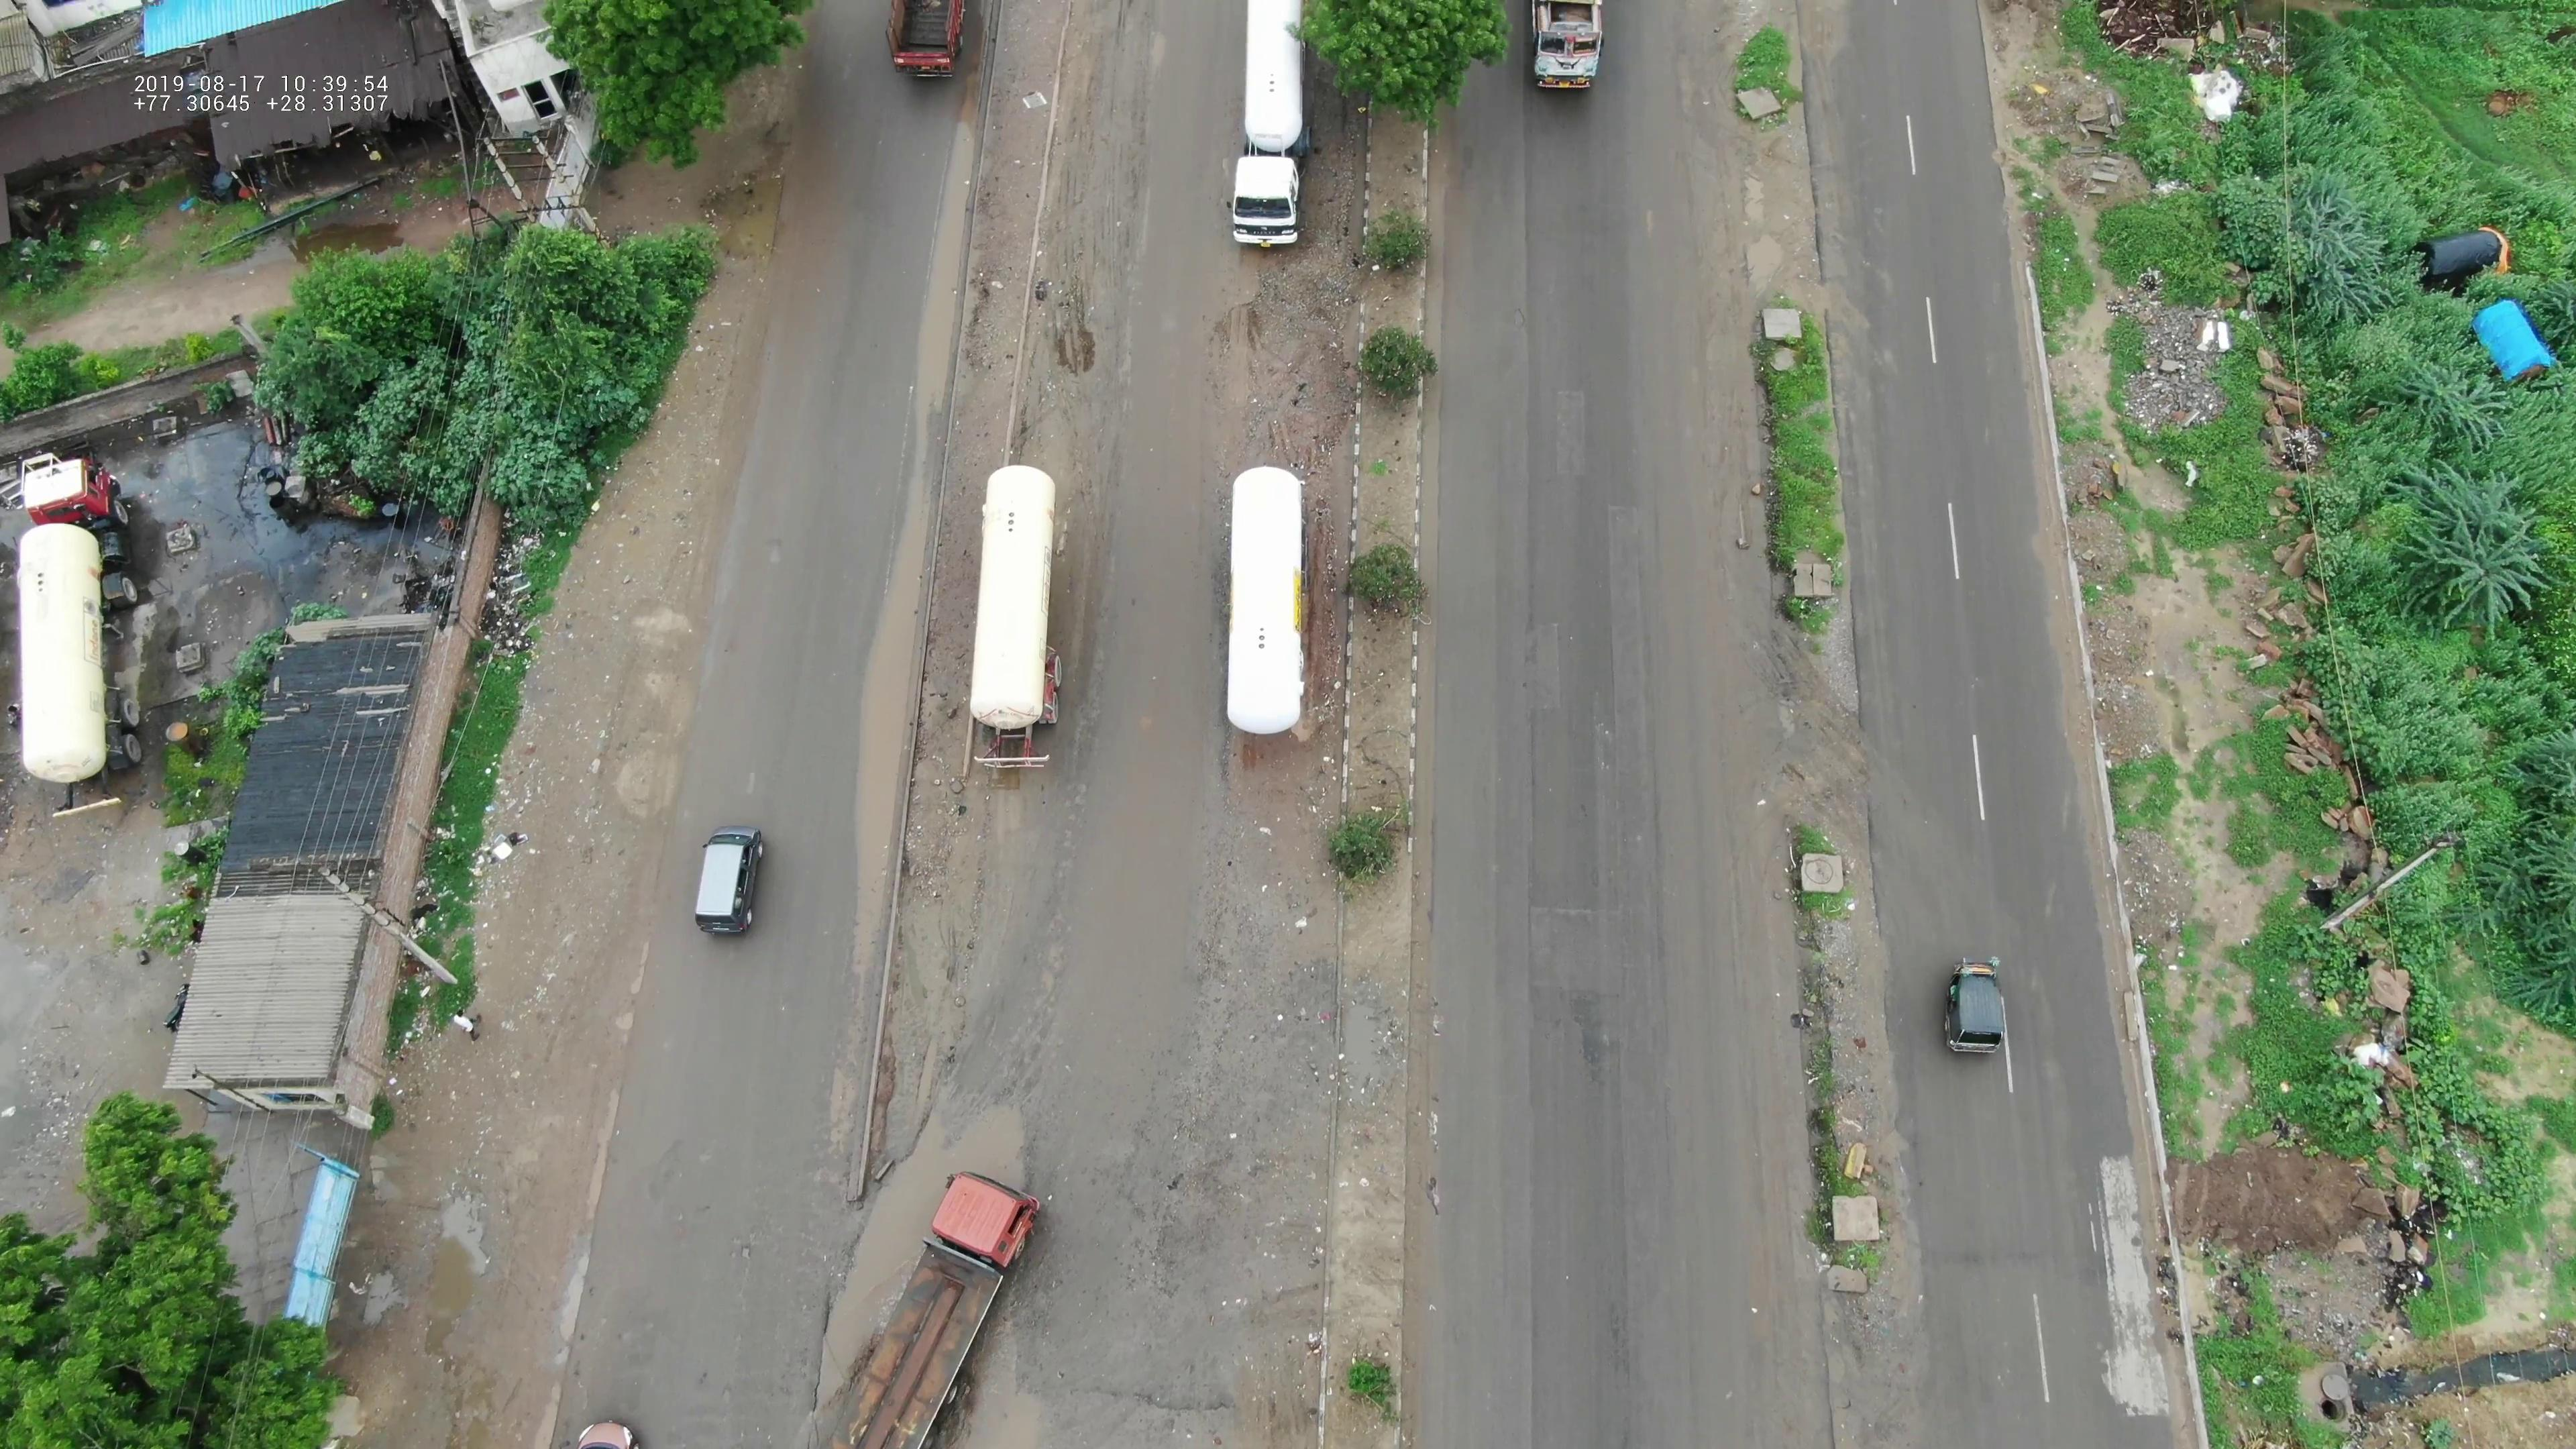Muddy_road: (1658, 855, 1796, 1279), (1157, 961, 1322, 1313), (892, 801, 1019, 1115), (1191, 271, 1323, 462)
Potholes: (1704, 145, 1787, 283)
